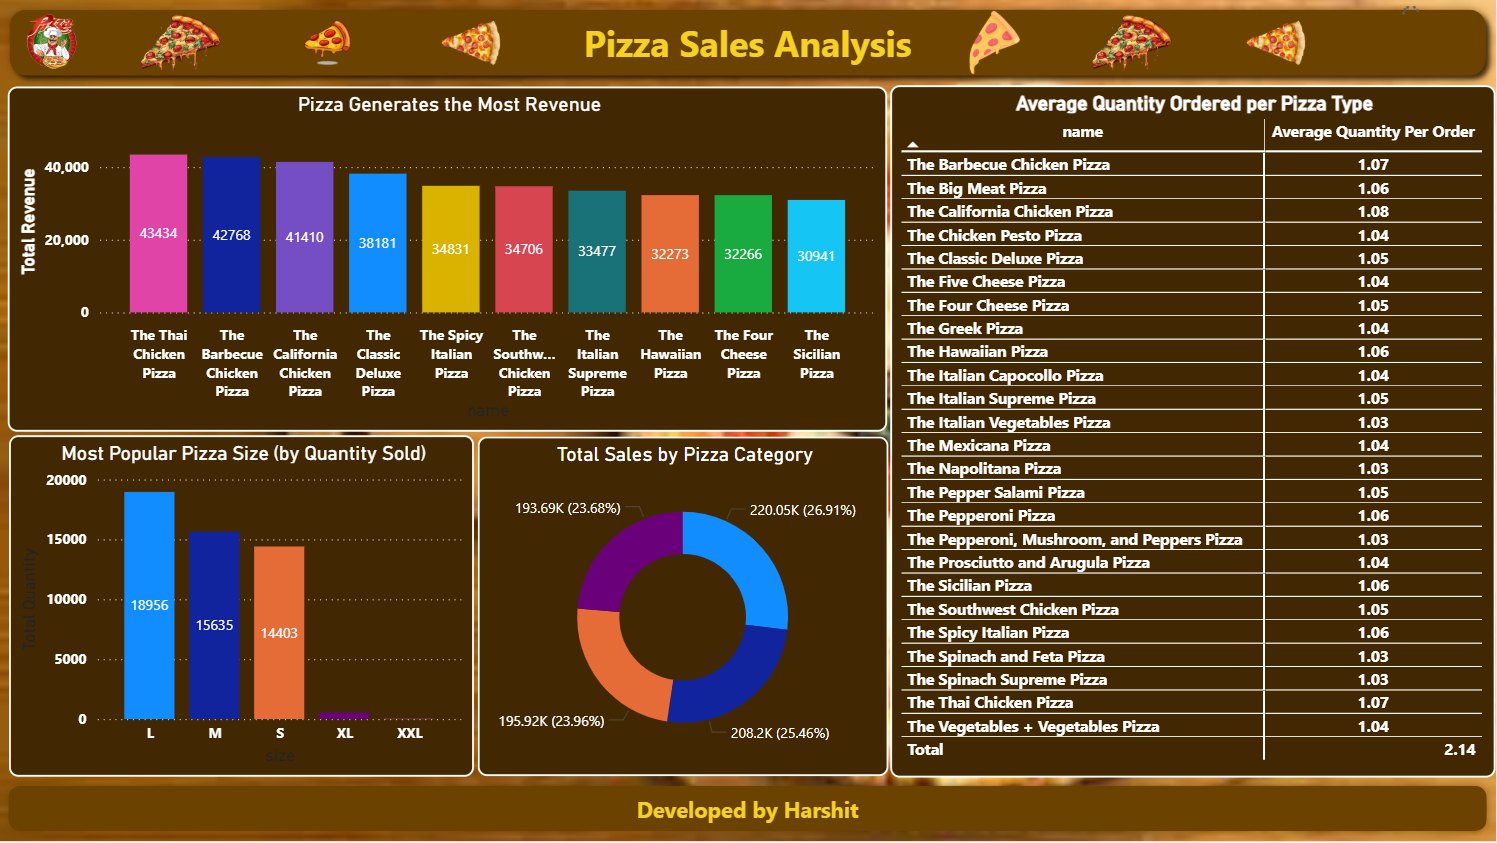

The page's visual inventory and layout, read from the dashboard file:
{"tool":"powerbi","page":{"name":"page2","canvas":[1280,720],"ordinal":1},"visuals":[{"type":"shape","box":[0,0,1280.2,74.4],"z":0},{"type":"columnChart","title":"Pizza Generates the Most Revenue","fields":{"Category":["pizza_types.name"],"Y":["pizzas.Total Revenue"],"Series":["pizza_types.name"]},"box":[7,74.4,752.3,295.3],"z":1000},{"type":"pivotTable","title":"Average Quantity Ordered per Pizza Type ","fields":{"Rows":["pizza_types.name"],"Values":["order_details.Average Quantity Per Order"]},"box":[762.5,73.2,517.5,592],"z":2000},{"type":"columnChart","title":"Most Popular Pizza Size (by Quantity Sold)","fields":{"Y":["order_details.Total Quantity"],"Category":["pizzas.size"],"Series":["pizzas.size"]},"box":[8.1,373.3,397.7,291.9],"z":3000},{"type":"donutChart","title":"Total Sales by Pizza Category","fields":{"Category":["pizza_types.category"],"Y":["pizzas.Total Revenue"]},"box":[409.3,374.4,351.2,290.7],"z":4000},{"type":"shape","box":[0,665.1,1280.2,54.7],"z":5000},{"type":"image","box":[17.4,8.1,55.8,55.8],"z":7000},{"type":"image","box":[116.3,0,77.9,74.4],"z":8000},{"type":"image","box":[231.4,0,100,74.4],"z":9000},{"type":"image","box":[359.3,0,84.9,74.4],"z":10000},{"type":"image","box":[814,0,76.7,74.4],"z":11000},{"type":"image","box":[930.2,0,77.9,74.4],"z":12000},{"type":"image","box":[1195.4,2.3,69.8,73.3],"z":13000},{"type":"image","box":[1047.7,0,84.9,74.4],"z":14000}]}

Visuals, with their boxes in screenshot pixels (x1, y1, x2, y2), scaled from the page's 1280x720 canvas onto the 1497x843 screenshot:
shape: box=[0, 0, 1496, 87]
"Pizza Generates the Most Revenue" columnChart: box=[8, 87, 888, 433]
"Average Quantity Ordered per Pizza Type " pivotTable: box=[892, 86, 1496, 779]
"Most Popular Pizza Size (by Quantity Sold)" columnChart: box=[9, 437, 475, 779]
"Total Sales by Pizza Category" donutChart: box=[479, 438, 889, 779]
shape: box=[0, 779, 1496, 842]
image: box=[20, 9, 86, 75]
image: box=[136, 0, 227, 87]
image: box=[271, 0, 388, 87]
image: box=[420, 0, 520, 87]
image: box=[952, 0, 1042, 87]
image: box=[1088, 0, 1179, 87]
image: box=[1398, 3, 1480, 89]
image: box=[1225, 0, 1325, 87]
